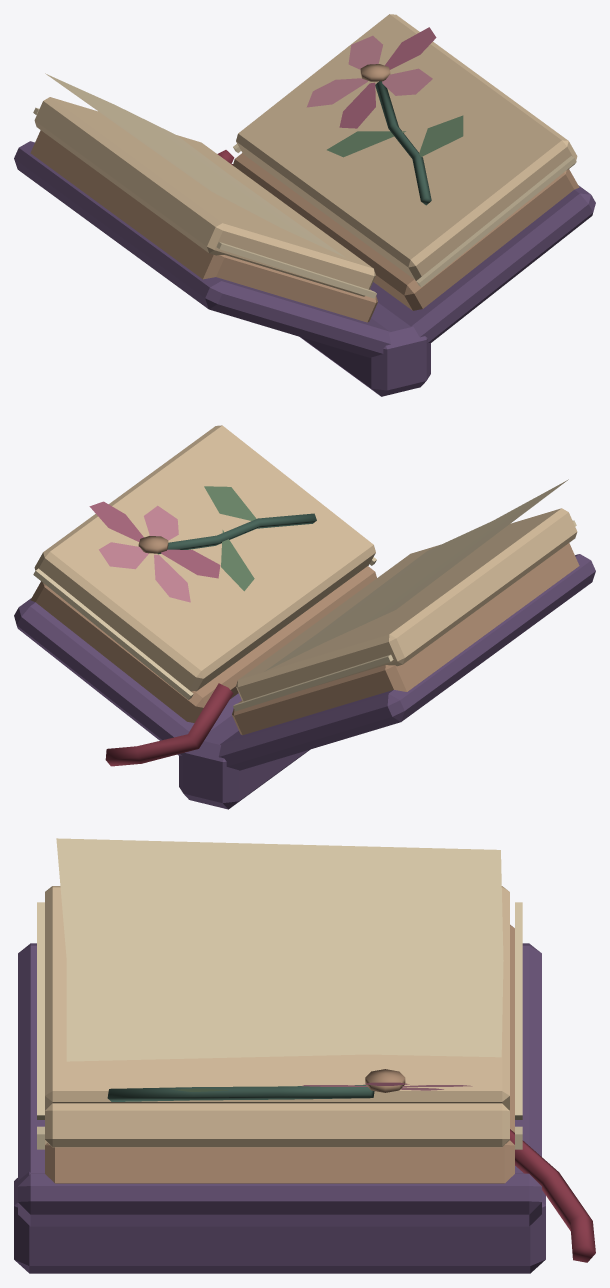
Rendered from pressed_flower.glb.
3 renders of one model, top to bottom at view 1: azimuth 30°, elevation 25°; view 2: azimuth 150°, elevation 25°; view 3: azimuth 270°, elevation 25°, orthographic. The views are drawn at different scales.
Parts seen in each view (by area): view 1: pressed_flower; view 2: pressed_flower; view 3: pressed_flower.
Boxes of the visible parts, x1=… form: pressed_flower: x1=14, y1=14, x2=595, y2=396; pressed_flower: x1=14, y1=425, x2=595, y2=809; pressed_flower: x1=14, y1=838, x2=595, y2=1273.
Bounding box in the file's own units: 0.229 × 0.1325 × 0.2265.
